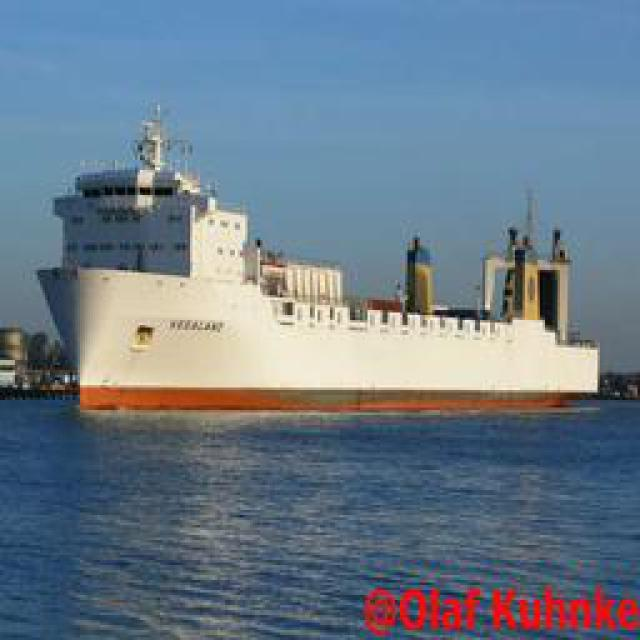Ship: (71, 254, 601, 414)
